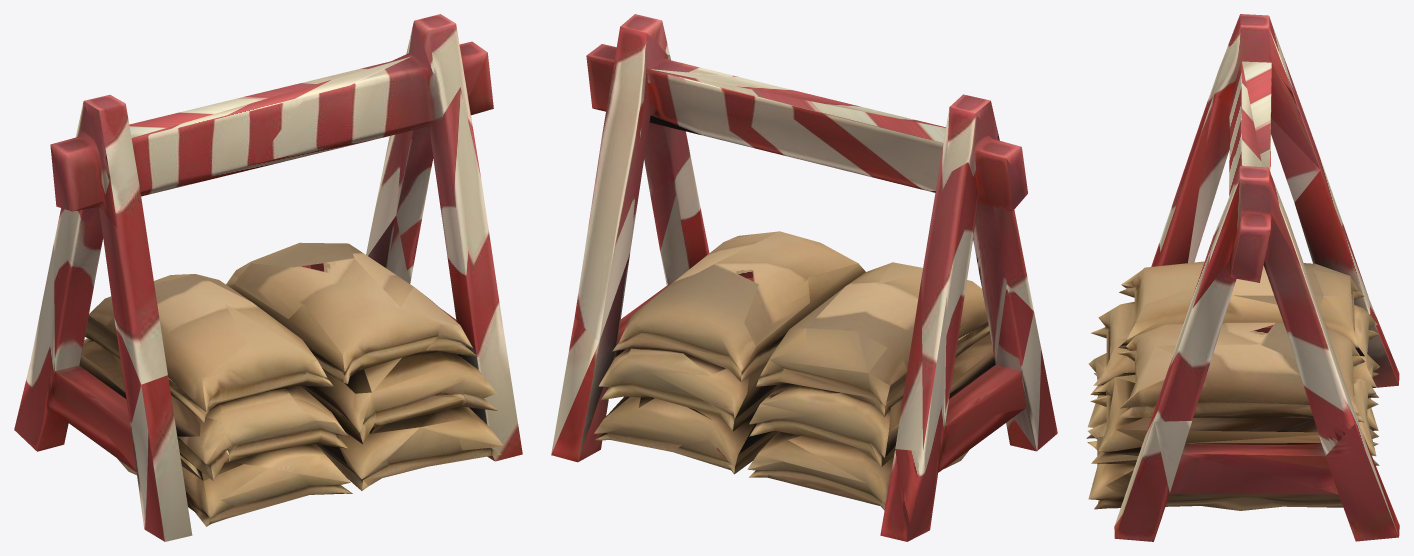
File: barricade.glb
The picture shows the model from 3 angles, left to right: view 1: azimuth 30°, elevation 25°; view 2: azimuth 150°, elevation 25°; view 3: azimuth 270°, elevation 25°; orthographic projection. The views are drawn at different scales.
Parts seen in each view (by area): view 1: SM_barricade; view 2: SM_barricade; view 3: SM_barricade.
Boxes of the visible parts, bbox=[...] form: SM_barricade: bbox=[14, 14, 522, 541]; SM_barricade: bbox=[551, 14, 1057, 541]; SM_barricade: bbox=[1086, 14, 1399, 541].
Bounding box in the file's own units: 1.37 × 1.2 × 0.9362.
Materials: 1 (1 with a texture image).
